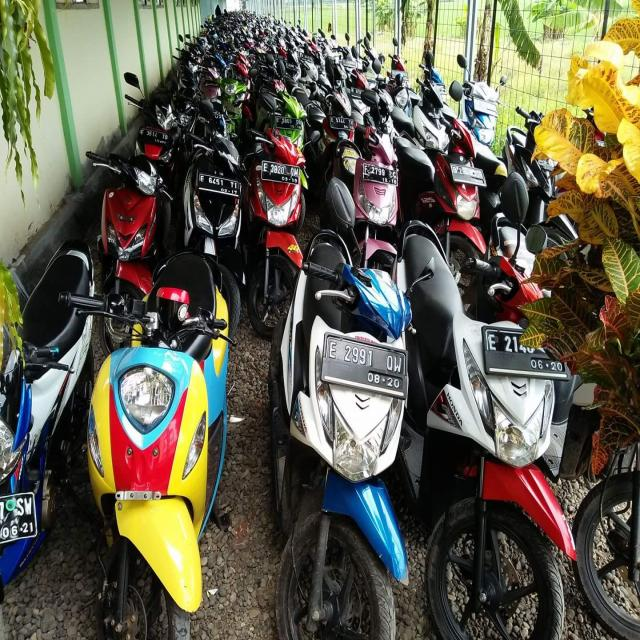plate: (324, 332, 406, 397), (484, 327, 566, 375), (198, 171, 240, 199), (262, 159, 300, 186), (449, 161, 486, 185), (361, 161, 398, 184), (139, 126, 169, 144), (274, 113, 302, 130)
